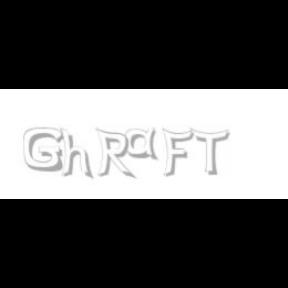F: (161, 128, 193, 178)
G: (23, 128, 63, 172)
R: (95, 128, 133, 180)
T: (189, 128, 229, 176)
a: (126, 128, 162, 160)
h: (60, 128, 96, 180)
